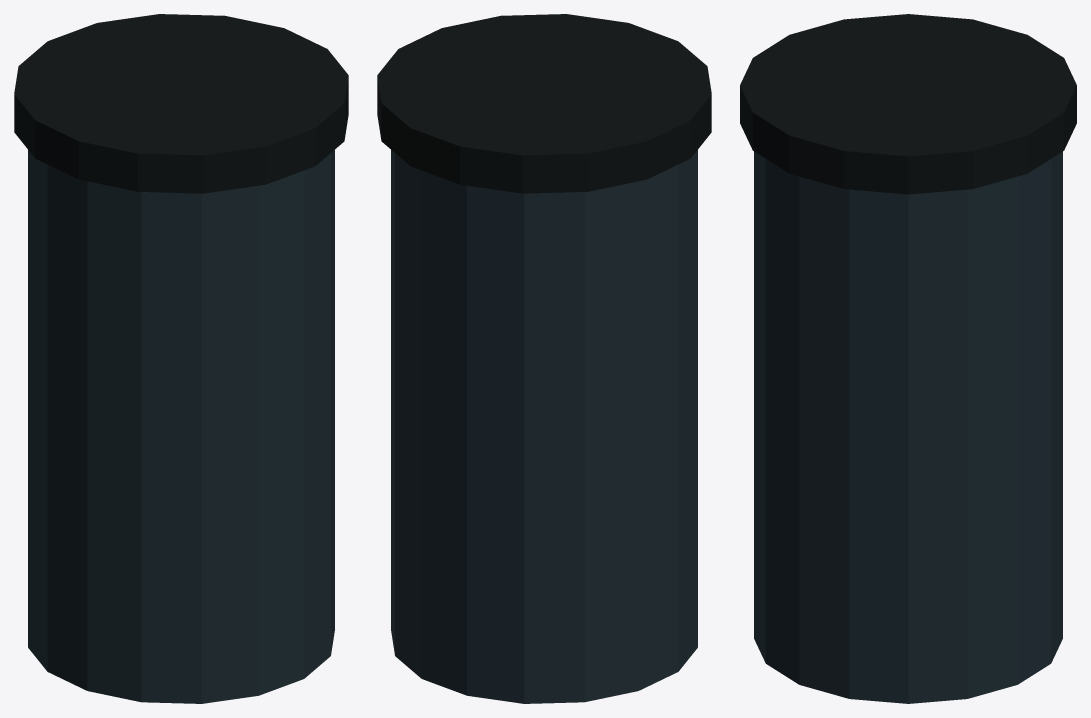
File: bin.glb
3 views of the same model, side by side, from view 1: azimuth 30°, elevation 25°; view 2: azimuth 150°, elevation 25°; view 3: azimuth 270°, elevation 25° (orthographic).
Parts seen in each view (by area): view 1: bin_VISUAL; view 2: bin_VISUAL; view 3: bin_VISUAL.
Part boxes in pixels (x1=…): bin_VISUAL: x1=14, y1=14, x2=348, y2=703; bin_VISUAL: x1=377, y1=14, x2=711, y2=703; bin_VISUAL: x1=740, y1=14, x2=1076, y2=703.
Size of what is drawn, in the model's own units: 1.71 by 3.11 by 1.71.
Materials: 2 (2 with a texture image).
